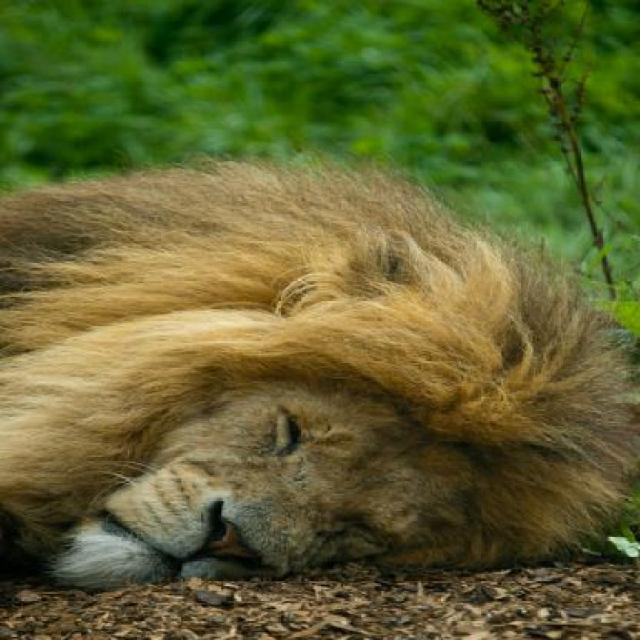Lion: (1, 117, 628, 638)
